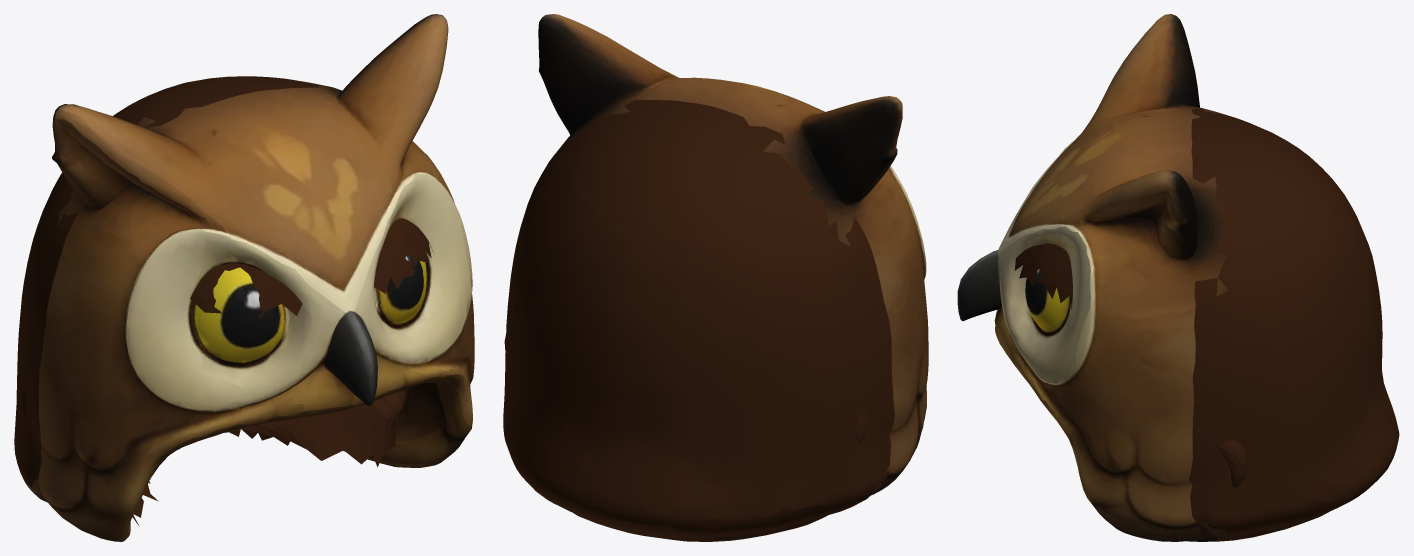
File: owl.glb
3 renders of one model, left to right at view 1: azimuth 30°, elevation 25°; view 2: azimuth 150°, elevation 25°; view 3: azimuth 270°, elevation 25°, orthographic. The views are drawn at different scales.
Visible parts, largest first — view 1: geometry_0, HoodAnatomicalLining; view 2: geometry_0; view 3: geometry_0, HoodAnatomicalLining.
Part boxes in pixels (left/top/right/bottom): geometry_0: left=14, top=14, right=474, bottom=541; HoodAnatomicalLining: left=21, top=218, right=433, bottom=526; geometry_0: left=503, top=14, right=928, bottom=541; geometry_0: left=957, top=14, right=1399, bottom=541; HoodAnatomicalLining: left=1014, top=244, right=1247, bottom=487.
Bounding box in the file's own units: 0.4901 × 0.52 × 0.5344.
2 materials, 1 textured.
